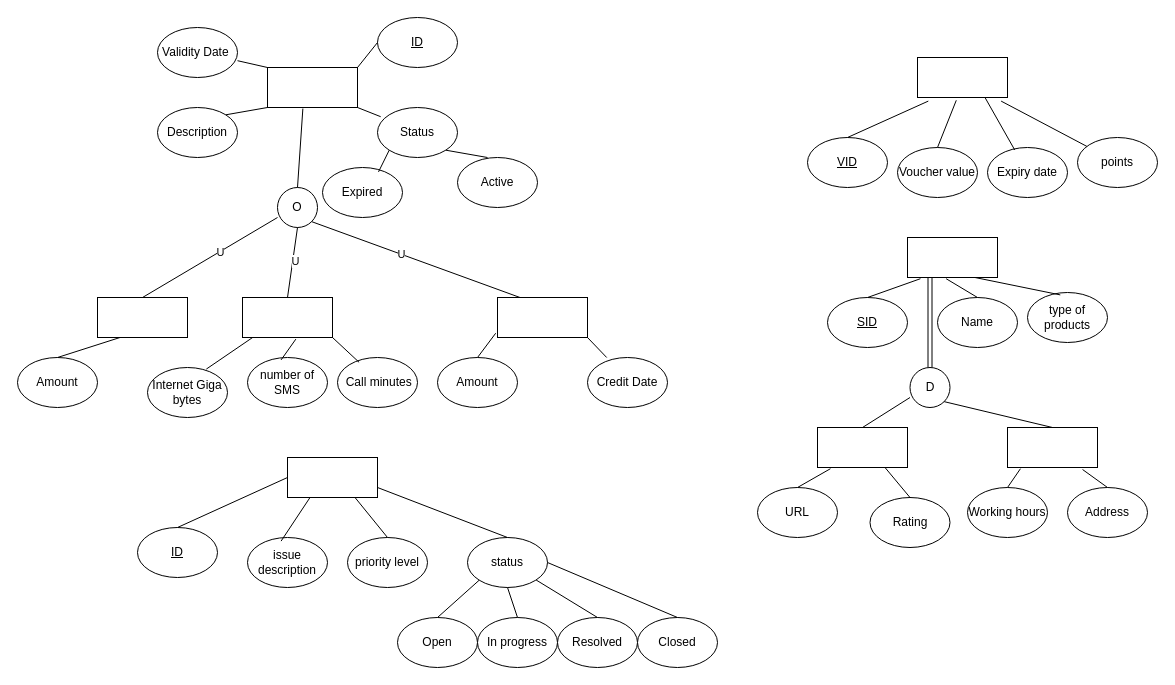
Some shapes in this 1175 by 685 pixel diagram are drawn without their labels. The shapes that lost their labels are listed below. From the top down, each one's box as (x1, y1, x2, y2) in pixels, then its label:
(266, 66, 358, 108): Benefits
(916, 56, 1008, 98): Voucher
(906, 236, 998, 278): Shop
(96, 296, 188, 338): Points Group
(242, 296, 332, 338): Exclusive offer
(496, 296, 588, 338): Cashback
(816, 426, 908, 468): E-Shop
(1006, 426, 1098, 468): Physical
(286, 456, 378, 498): Technical Support Ticket
